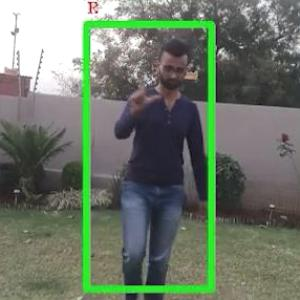land_hand: (124, 75, 157, 110)
